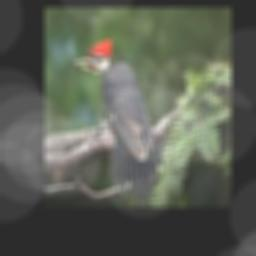Woodpecker: (70, 37, 162, 206)
